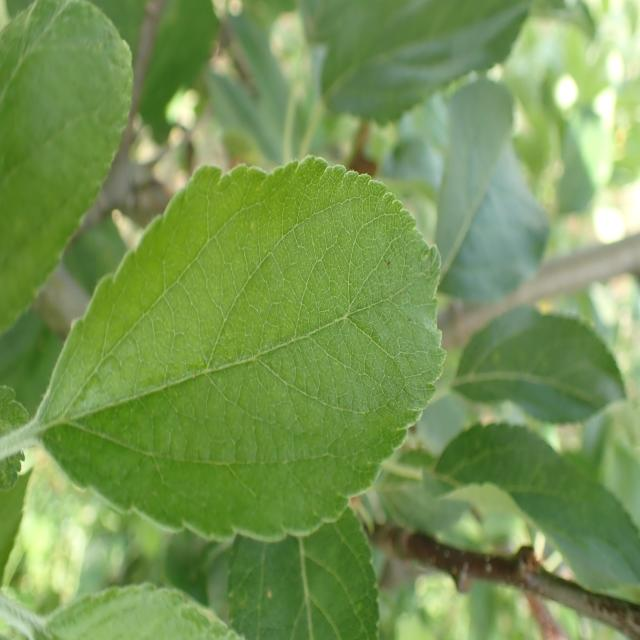healthy: (42, 155, 446, 544), (0, 0, 134, 333), (429, 421, 639, 597), (304, 0, 532, 127), (451, 306, 627, 426), (227, 504, 381, 640), (41, 582, 243, 640)
